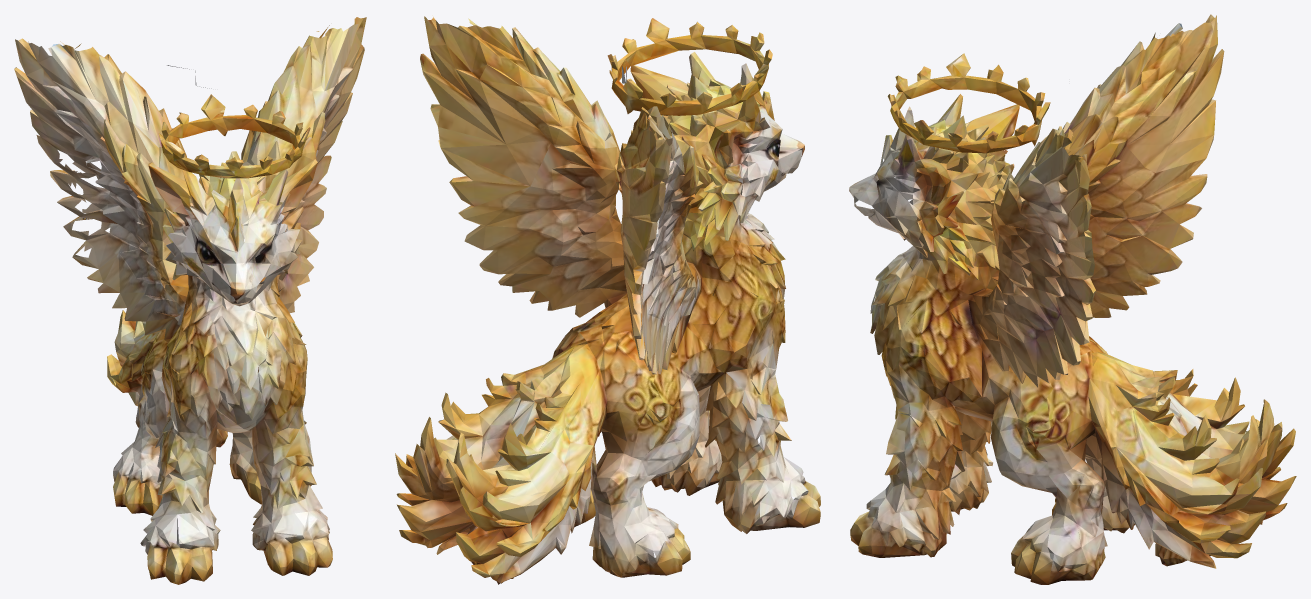
The model's file is solaris_lo.glb.
3 views of the same model, side by side, from view 1: azimuth 30°, elevation 25°; view 2: azimuth 150°, elevation 25°; view 3: azimuth 270°, elevation 25° (orthographic). The views are drawn at different scales.
Visible parts, largest first — view 1: plush; view 2: plush; view 3: plush.
Part boxes in pixels (x1,y1,x2,y2): plush: (14, 17, 366, 584); plush: (395, 16, 820, 584); plush: (849, 14, 1296, 584).
Bounding box in the file's own units: 0.6652 × 0.9793 × 0.8426.
Materials: 1 (1 with a texture image).
